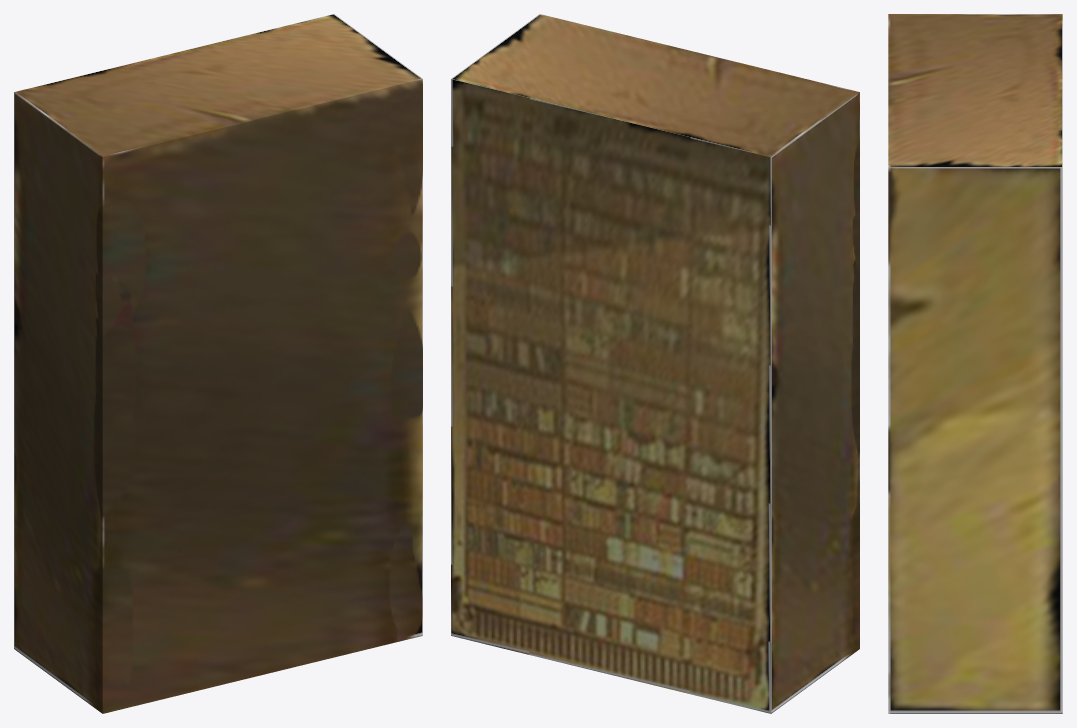
The picture shows the model from 3 angles, left to right: view 1: azimuth 30°, elevation 25°; view 2: azimuth 150°, elevation 25°; view 3: azimuth 270°, elevation 25°; orthographic projection.
Parts seen in each view (by area): view 1: 책장1; view 2: 책장1; view 3: 책장1.
Part boxes in pixels (x1,y1,x2,y2): 책장1: (14,14,422,713); 책장1: (451,14,859,713); 책장1: (888,14,1062,713).
Size of the model in its own units: 47.09 by 78.27 by 22.6.
